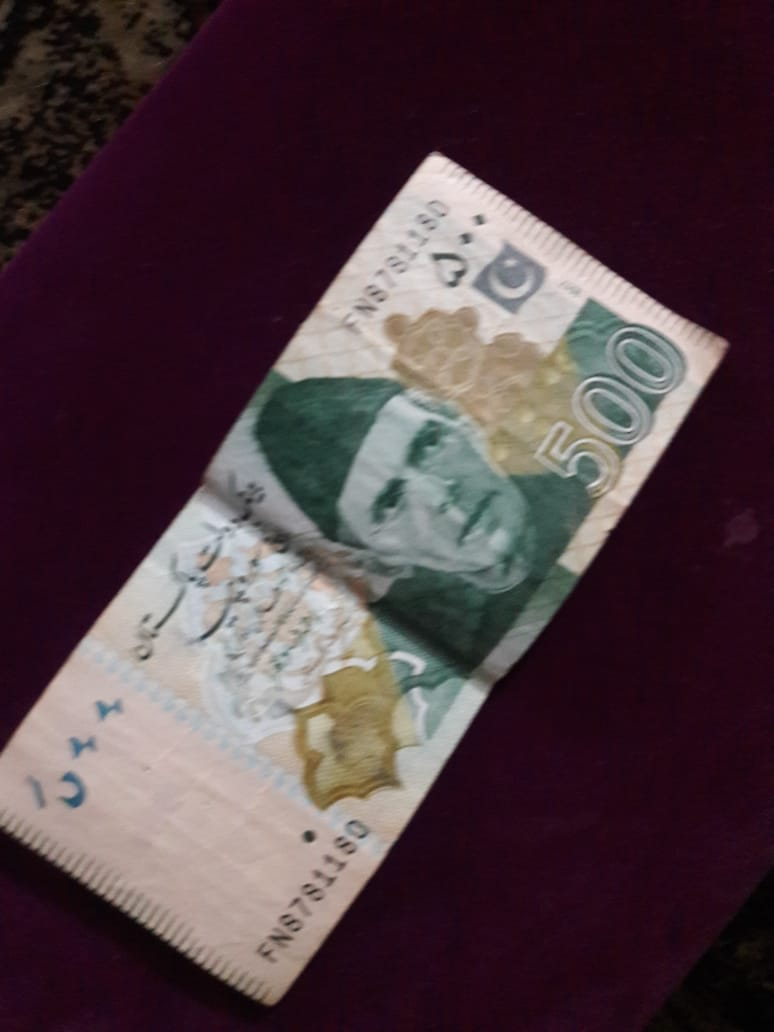500 rupee: (9, 156, 723, 1017)
